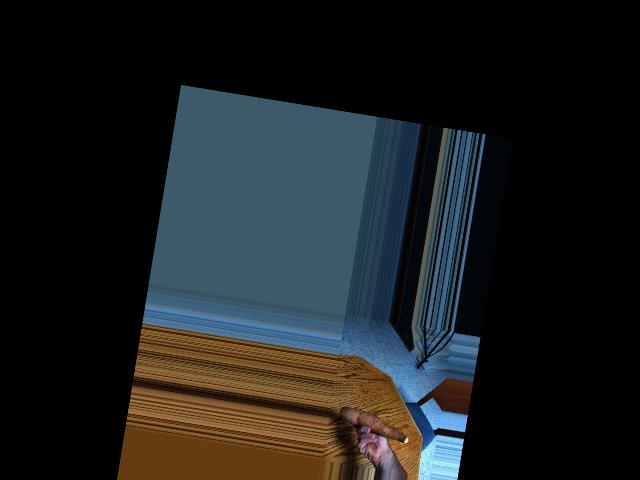sweet_potato: (337, 403, 413, 447)
